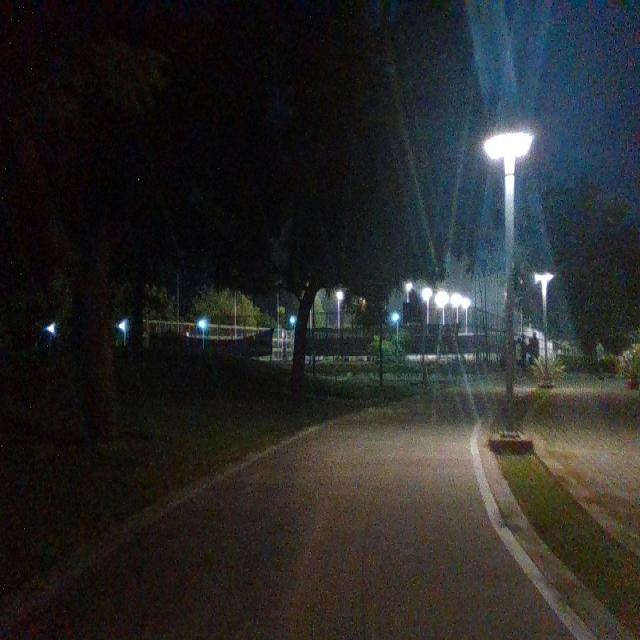lane: (4, 391, 581, 640)
